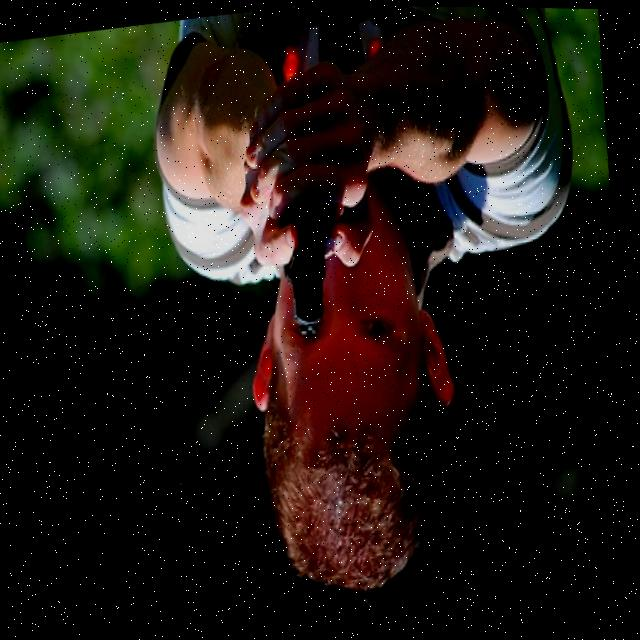pistol: (279, 220, 338, 335)
